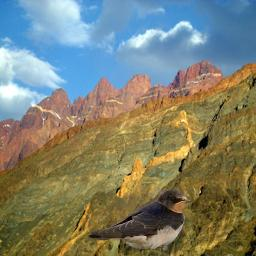Swallow: (87, 188, 191, 255)
